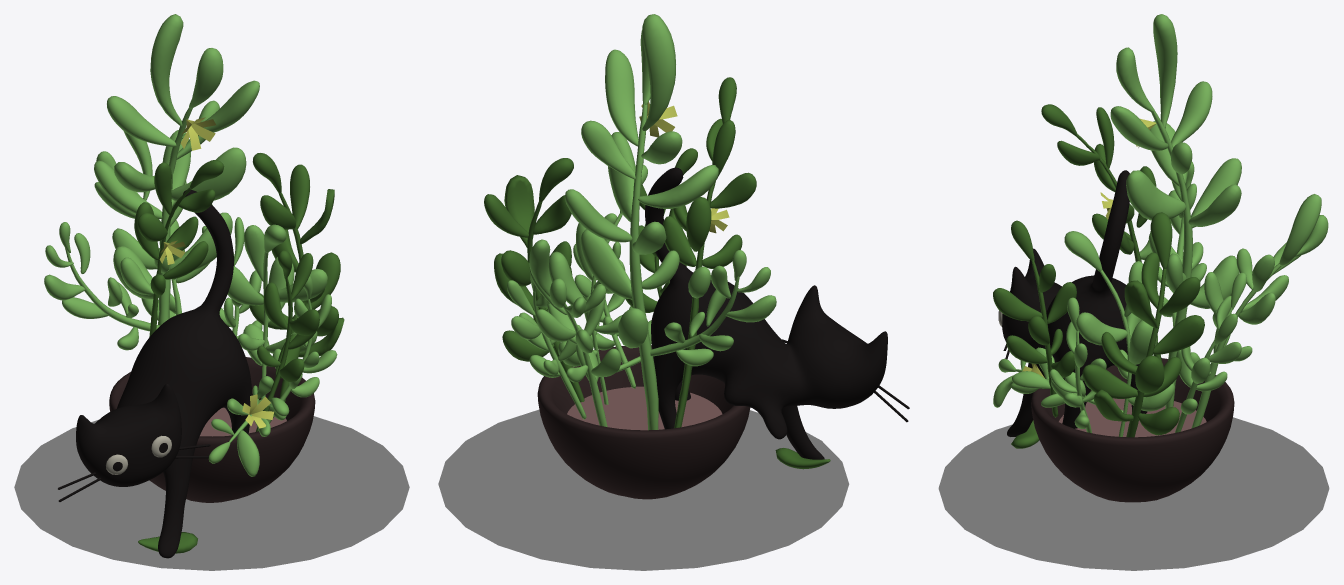
The model's file is Catinflowerfbx.fbx.
3 renders of one model, left to right at view 1: azimuth 30°, elevation 25°; view 2: azimuth 150°, elevation 25°; view 3: azimuth 270°, elevation 25°, orthographic. The views are drawn at different scales.
Visible parts, largest first — view 1: polySurface190, pDisc1, polySurface130, polySurface240, pCone2, polySurface241, pCone1; view 2: polySurface190, pDisc1, polySurface130, polySurface240, polySurface241; view 3: polySurface190, pDisc1, polySurface240, polySurface130, polySurface241.
Boxes of the visible parts, x1,y1,x2,y2 form: polySurface190: (44, 14, 344, 553); pDisc1: (14, 416, 409, 570); polySurface130: (76, 190, 252, 558); polySurface240: (109, 357, 315, 502); pCone2: (180, 117, 216, 150); polySurface241: (200, 407, 286, 436); pCone1: (242, 394, 273, 428); polySurface190: (484, 14, 830, 469); pDisc1: (438, 409, 849, 570); polySurface130: (645, 167, 887, 459); polySurface240: (537, 345, 750, 499); polySurface241: (567, 386, 722, 430); polySurface190: (993, 14, 1328, 448); pDisc1: (938, 417, 1329, 570); polySurface240: (1031, 358, 1234, 502); polySurface130: (1002, 170, 1147, 436); polySurface241: (1059, 398, 1206, 437).
Size of the model in its own units: 1.77 by 2.11 by 1.61.
